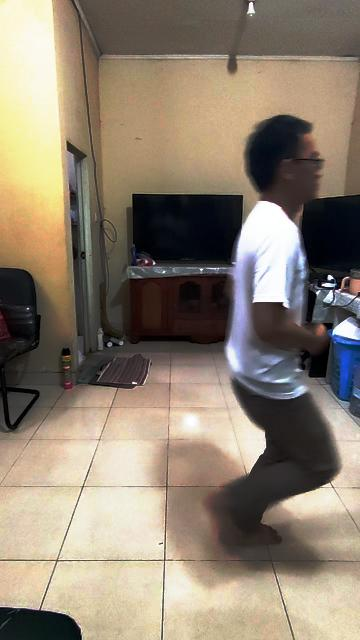berlari: (209, 115, 338, 558)
